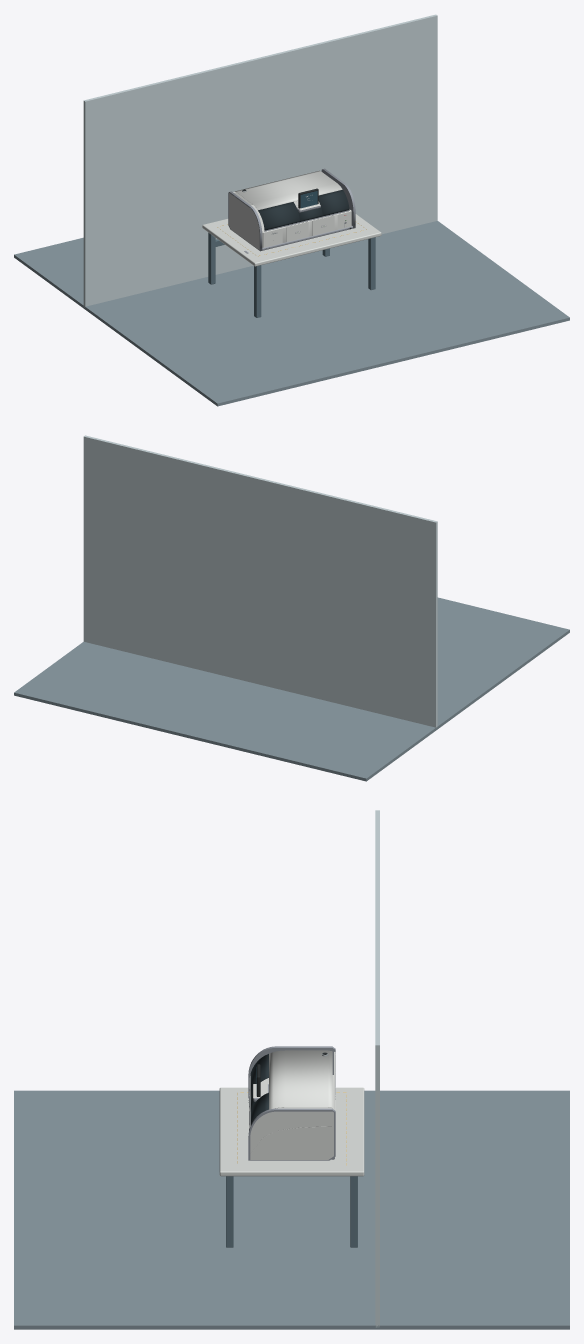
The model's file is spectra-exterior.glb.
The picture shows the model from 3 angles, top to bottom: view 1: azimuth 30°, elevation 25°; view 2: azimuth 150°, elevation 25°; view 3: azimuth 270°, elevation 25°; orthographic projection. The views are drawn at different scales.
Parts seen in each view (by area): view 1: env.wall, env.floor, env.bench.top, spectra.hood.crown, spectra.body.side-inset-left, spectra.hood, spectra.hood.right; view 2: env.wall, env.floor; view 3: env.floor, env.bench.top, spectra.body.side-inset-right, spectra.hood.crown, env.wall, spectra.body.side-left.
Part boxes in pixels (<box>): env.wall: <box>83,14,437,307</box>; env.floor: <box>14,221,569,406</box>; env.bench.top: <box>202,214,381,266</box>; spectra.hood.crown: <box>234,170,342,210</box>; spectra.body.side-inset-left: <box>229,193,259,250</box>; spectra.hood: <box>258,202,299,230</box>; spectra.hood.right: <box>318,189,349,216</box>; env.wall: <box>83,435,437,727</box>; env.floor: <box>14,597,569,781</box>; env.floor: <box>14,1090,569,1329</box>; env.bench.top: <box>219,1087,364,1176</box>; spectra.body.side-inset-right: <box>250,1111,333,1159</box>; spectra.hood.crown: <box>269,1050,332,1109</box>; env.wall: <box>375,810,379,1327</box>; spectra.body.side-left: <box>248,1046,335,1098</box>.
Bounding box in the file's own units: 5 × 2.82 × 5.
